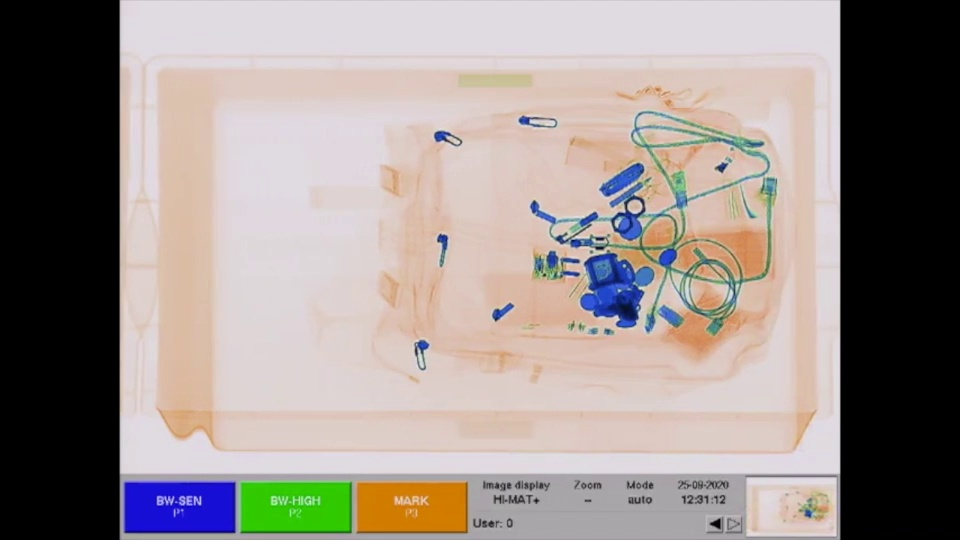tray_img: (142, 47, 827, 463)
